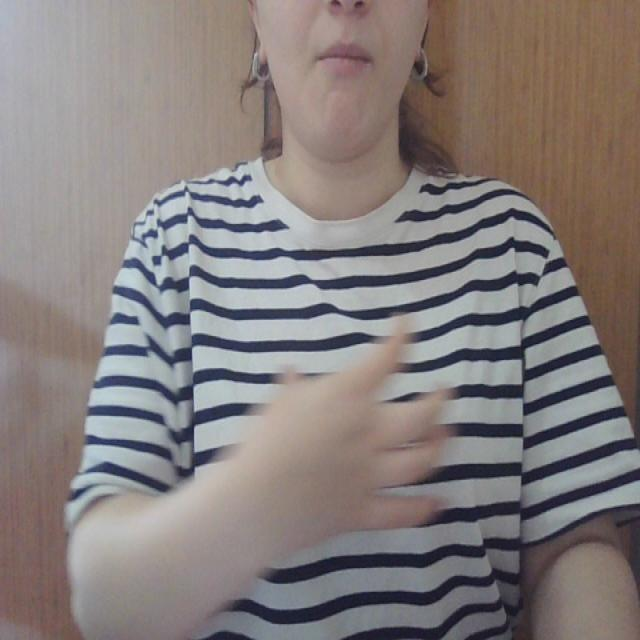Anne: (145, 317, 531, 561)
